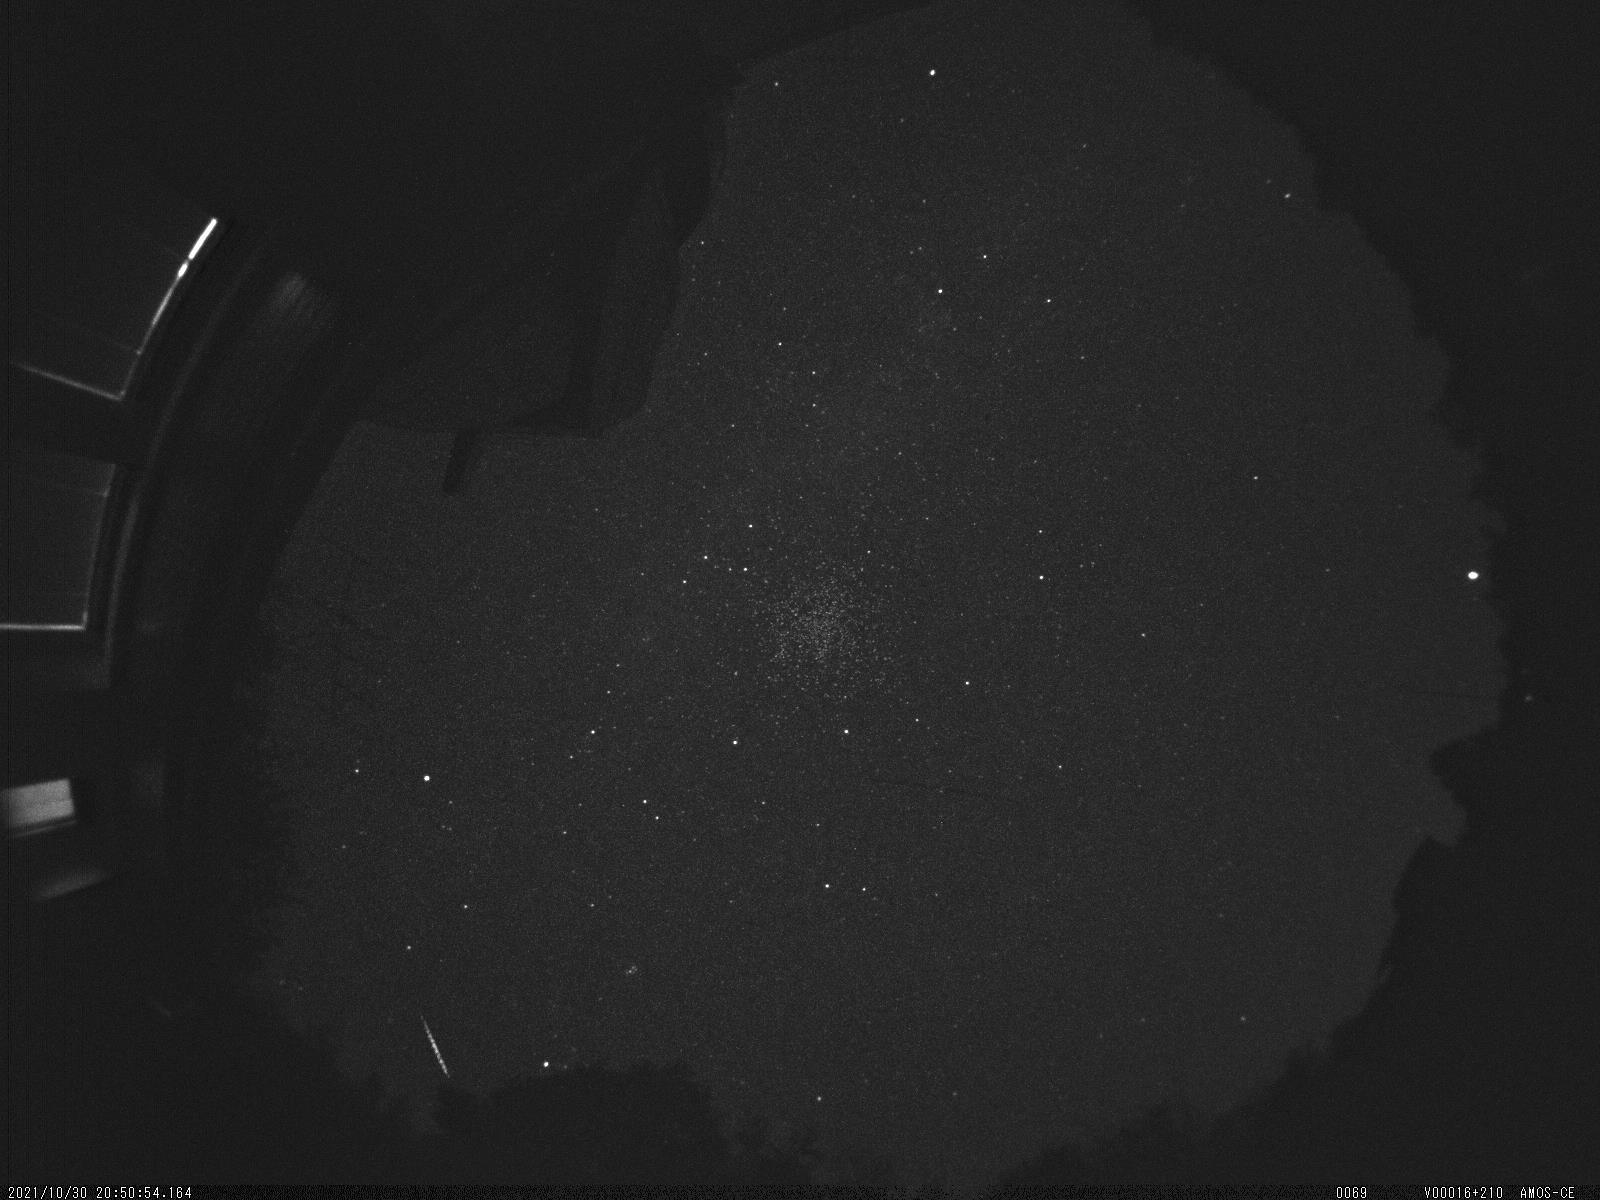Meteor: (416, 1003, 465, 1090)
